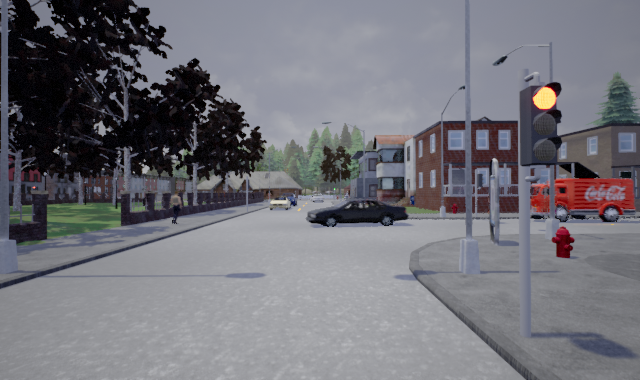pedestrian: (166, 189, 184, 224)
vehicle: (517, 177, 638, 223), (304, 198, 412, 229), (269, 197, 292, 211)
